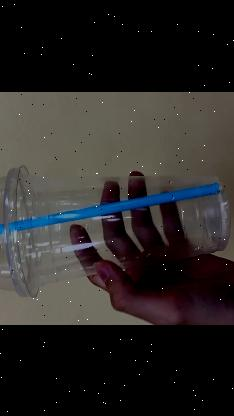Others: (0, 160, 229, 299)
